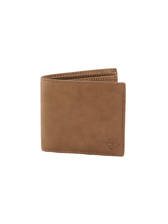other: (30, 67, 129, 157)
